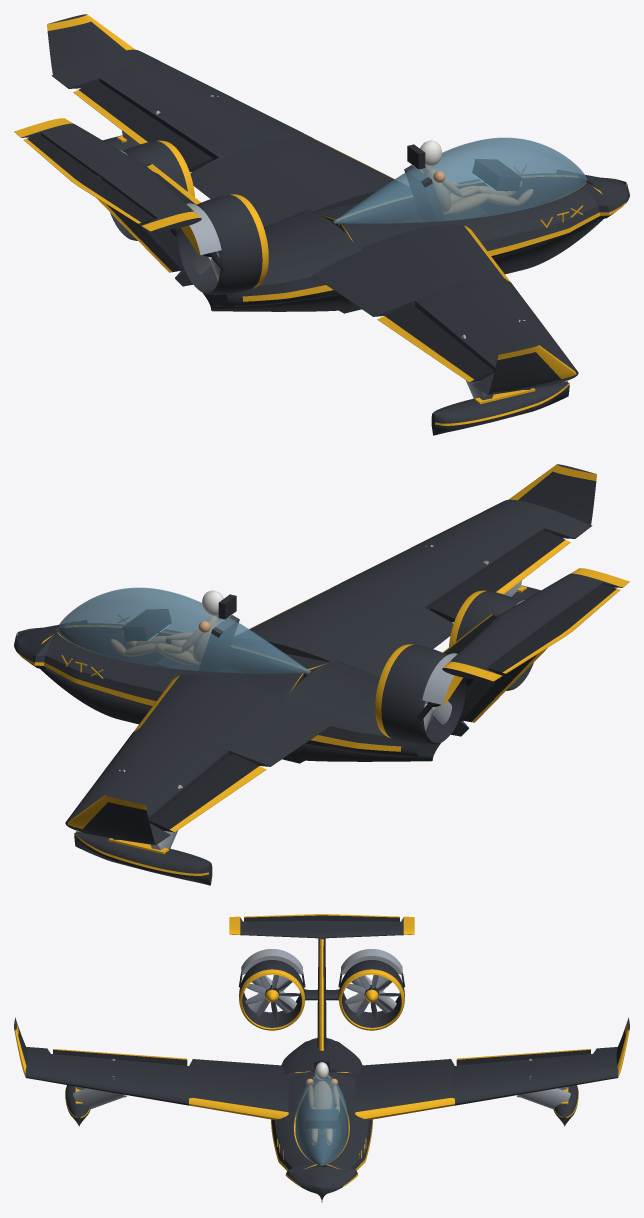
The model's file is REF_current_bubble__upright_18.glb.
3 renders of one model, top to bottom at view 1: azimuth 30°, elevation 25°; view 2: azimuth 150°, elevation 25°; view 3: azimuth 270°, elevation 25°, orthographic. The views are drawn at different scales.
Visible parts, largest first — view 1: Ricochet_Wing_Port, Ricochet_ConceptA_Hull_Cabin, Ricochet_Wing_Stbd, Ricochet_Canopy_Glass, Ricochet_Tail_Pylon_T_Tail, Ricochet_Duct_Stbd, Ricochet_Aileron_Port, Ricochet_Aileron_Stbd, Ricochet_Sponson_Stbd, Ricochet_Cockpit_Interior, Ricochet_Winglet_Port, Ricochet_Winglet_Stbd (+5 smaller); view 2: Ricochet_Wing_Stbd, Ricochet_ConceptA_Hull_Cabin, Ricochet_Wing_Port, Ricochet_Canopy_Glass, Ricochet_Tail_Pylon_T_Tail, Ricochet_Duct_Port, Ricochet_Aileron_Stbd, Ricochet_Aileron_Port, Ricochet_Sponson_Port, Ricochet_Cockpit_Interior, Ricochet_Winglet_Stbd, Ricochet_Winglet_Port (+5 smaller); view 3: Ricochet_Wing_Port, Ricochet_Wing_Stbd, Ricochet_ConceptA_Hull_Cabin, Ricochet_Tail_Pylon_T_Tail, Ricochet_Canopy_Glass, Ricochet_Duct_Port, Ricochet_Duct_Stbd, Study_Pilot_Manikin, Ricochet_Elevator, Ricochet_Cockpit_Interior, Ricochet_Aileron_Port, Ricochet_Aileron_Stbd (+8 smaller).
Boxes of the visible parts, x1,y1,x2,y2 form: Ricochet_Wing_Port: (51, 49, 394, 227); Ricochet_ConceptA_Hull_Cabin: (203, 175, 629, 313); Ricochet_Wing_Stbd: (312, 224, 578, 395); Ricochet_Canopy_Glass: (332, 137, 587, 223); Ricochet_Tail_Pylon_T_Tail: (14, 118, 201, 286); Ricochet_Duct_Stbd: (178, 194, 268, 294); Ricochet_Aileron_Port: (73, 81, 213, 172); Ricochet_Aileron_Stbd: (377, 303, 494, 382); Ricochet_Sponson_Stbd: (431, 381, 569, 435); Ricochet_Cockpit_Interior: (404, 144, 521, 221); Ricochet_Winglet_Port: (47, 14, 135, 75); Ricochet_Winglet_Stbd: (488, 345, 576, 394); Ricochet_Wing_Stbd: (249, 499, 592, 677); Ricochet_ConceptA_Hull_Cabin: (14, 625, 440, 763); Ricochet_Wing_Port: (65, 674, 331, 845); Ricochet_Canopy_Glass: (56, 587, 311, 673); Ricochet_Tail_Pylon_T_Tail: (442, 568, 629, 736); Ricochet_Duct_Port: (375, 644, 465, 744); Ricochet_Aileron_Stbd: (430, 531, 570, 622); Ricochet_Aileron_Port: (149, 753, 266, 832); Ricochet_Sponson_Port: (74, 831, 212, 885); Ricochet_Cockpit_Interior: (122, 594, 239, 671); Ricochet_Winglet_Stbd: (508, 464, 596, 525); Ricochet_Winglet_Port: (67, 795, 155, 844); Ricochet_Wing_Port: (355, 1047, 618, 1119); Ricochet_Wing_Stbd: (25, 1047, 288, 1119); Ricochet_ConceptA_Hull_Cabin: (271, 1038, 372, 1202); Ricochet_Tail_Pylon_T_Tail: (229, 916, 414, 1050); Ricochet_Canopy_Glass: (295, 1074, 348, 1165); Ricochet_Duct_Port: (338, 960, 404, 1030); Ricochet_Duct_Stbd: (239, 960, 305, 1030); Study_Pilot_Manikin: (306, 1062, 339, 1144); Ricochet_Elevator: (244, 914, 399, 921); Ricochet_Cockpit_Interior: (305, 1060, 338, 1137); Ricochet_Aileron_Port: (456, 1049, 590, 1065); Ricochet_Aileron_Stbd: (53, 1049, 187, 1065).
Bounding box in the file's own units: 6.78 × 2.34 × 9.64.
